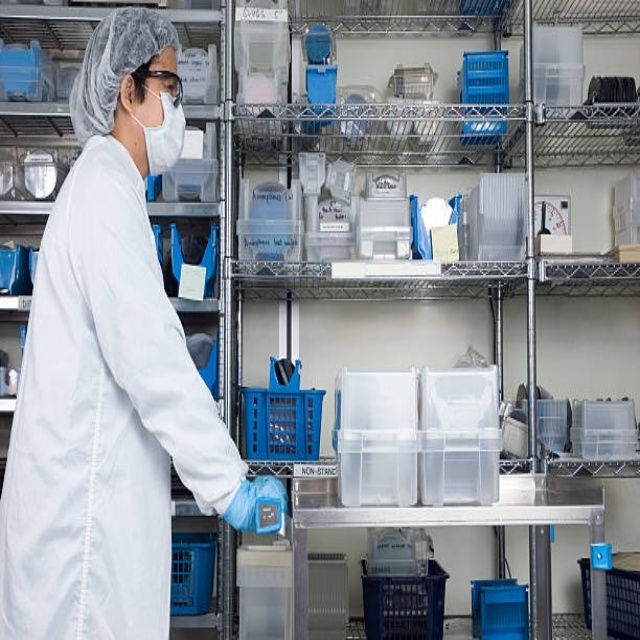Gafas: (138, 70, 184, 106)
Guantes: (221, 475, 288, 535)
Mascara: (135, 82, 187, 175)
